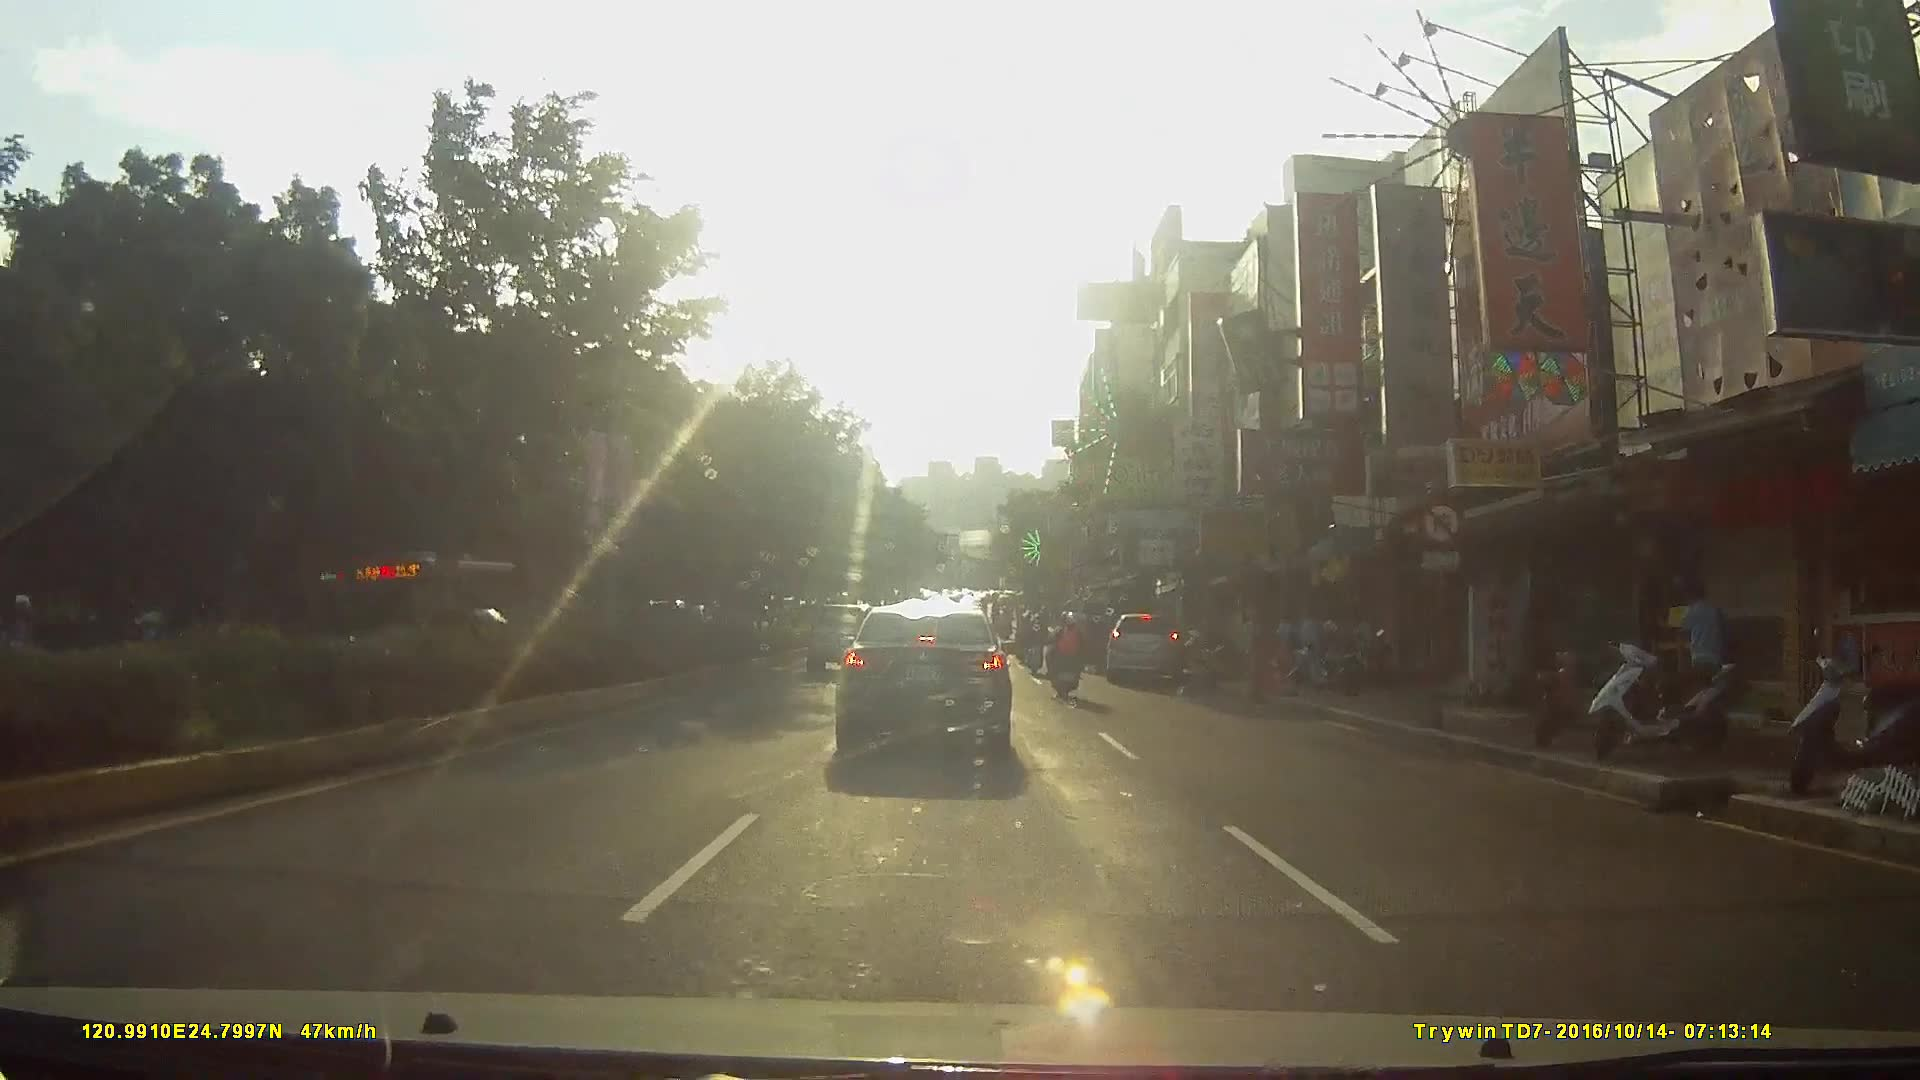pedestrian: (1671, 584, 1726, 720)
rider: (1050, 605, 1095, 702), (1018, 606, 1048, 674)
vehicle: (831, 588, 1032, 760), (335, 543, 542, 653), (1104, 604, 1193, 689)
